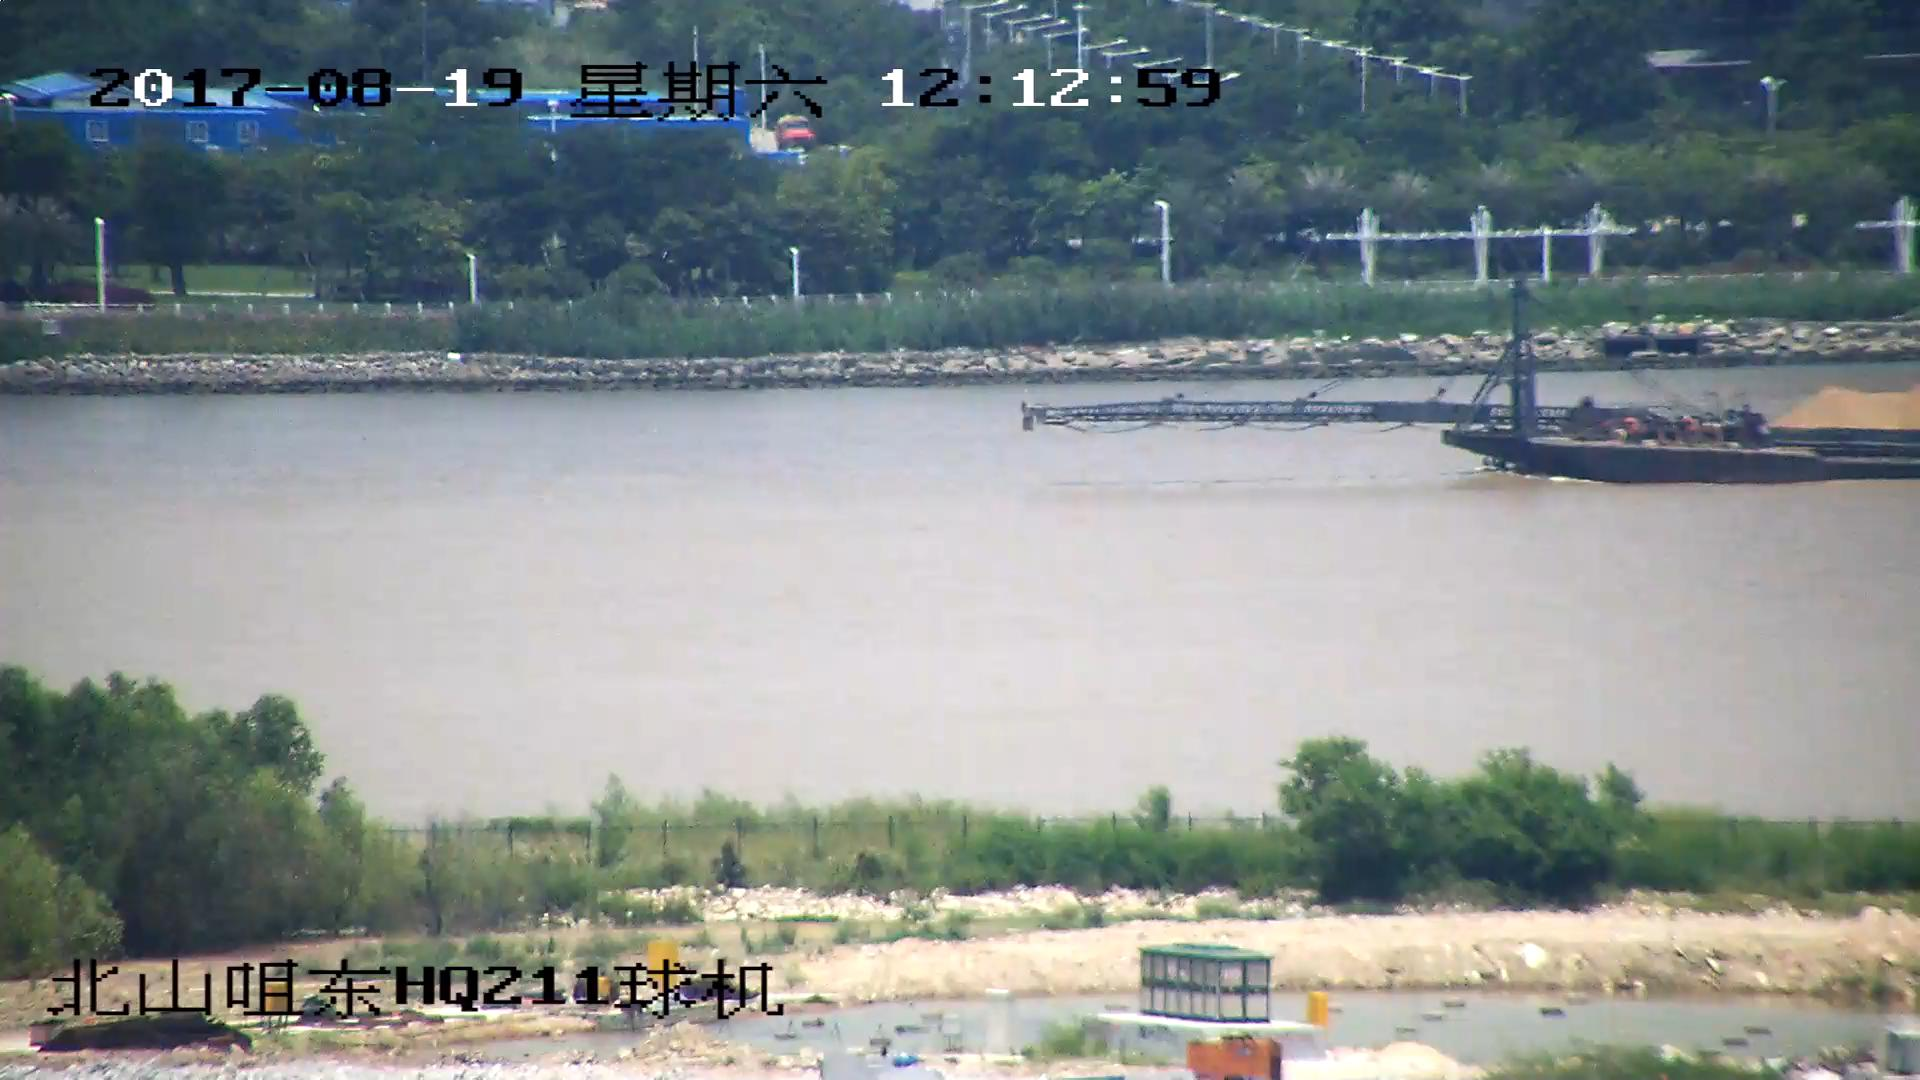ore carrier: (1022, 279, 1920, 487)
